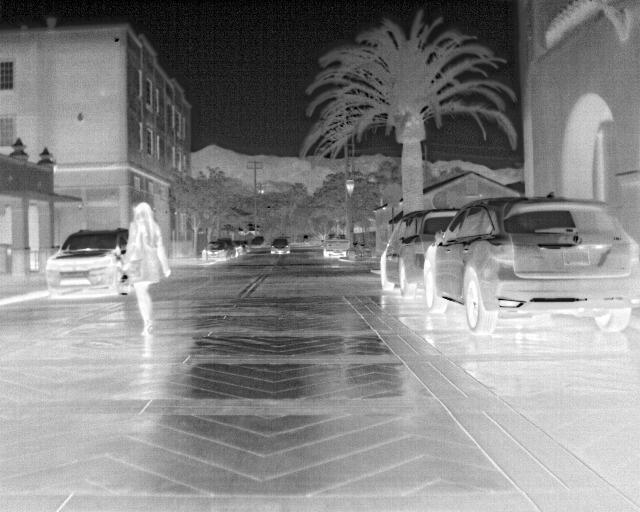bicycle: (420, 196, 638, 330), (379, 205, 461, 297), (45, 226, 132, 295), (320, 233, 354, 257), (202, 239, 236, 260), (269, 235, 293, 257), (228, 240, 243, 254), (249, 236, 264, 249)
empty: (126, 200, 175, 342)
